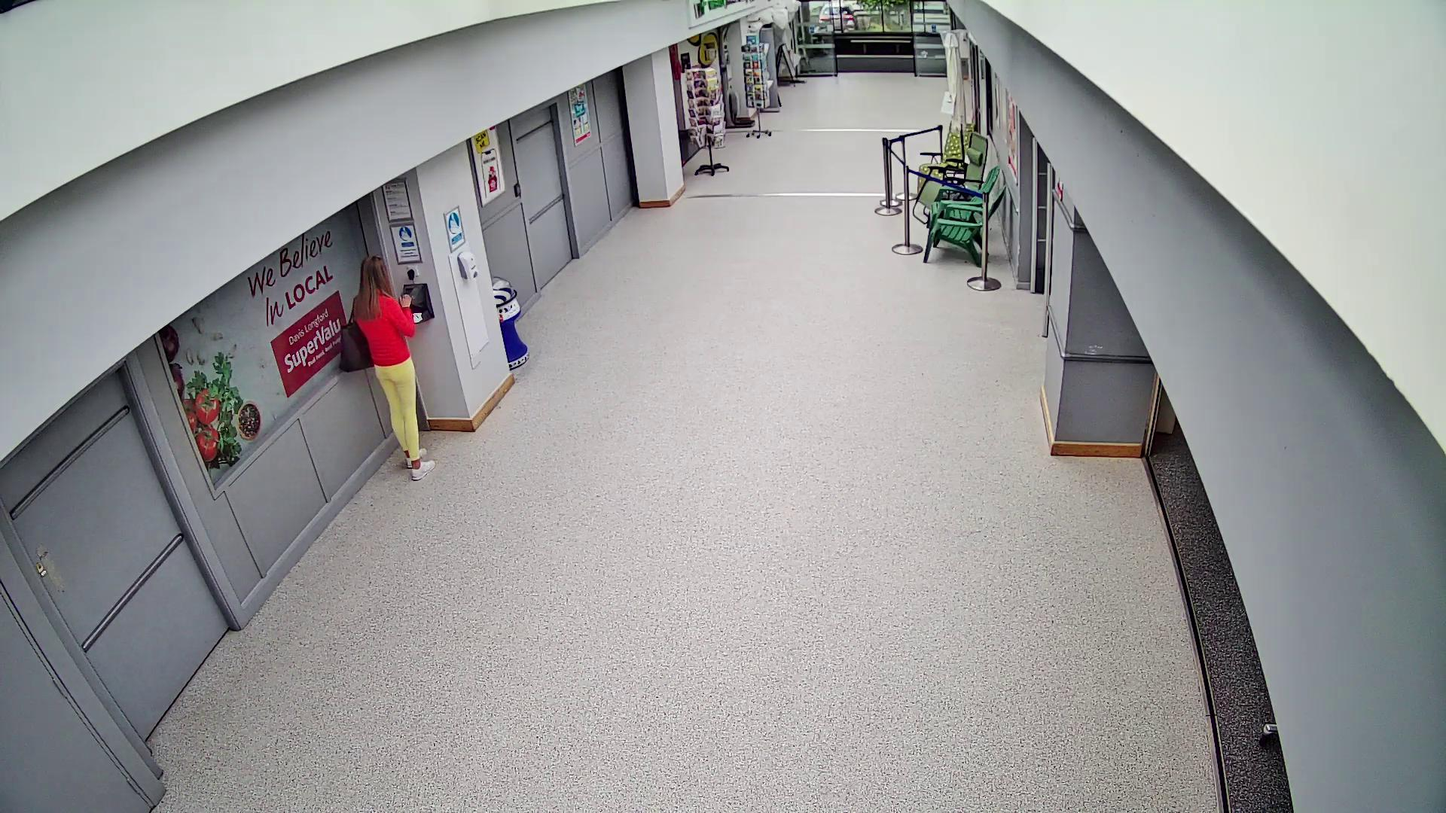backpack-or-handbag: (338, 323, 374, 372)
person: (352, 256, 436, 481)
person-with-backpack-handbag: (338, 256, 437, 482)
